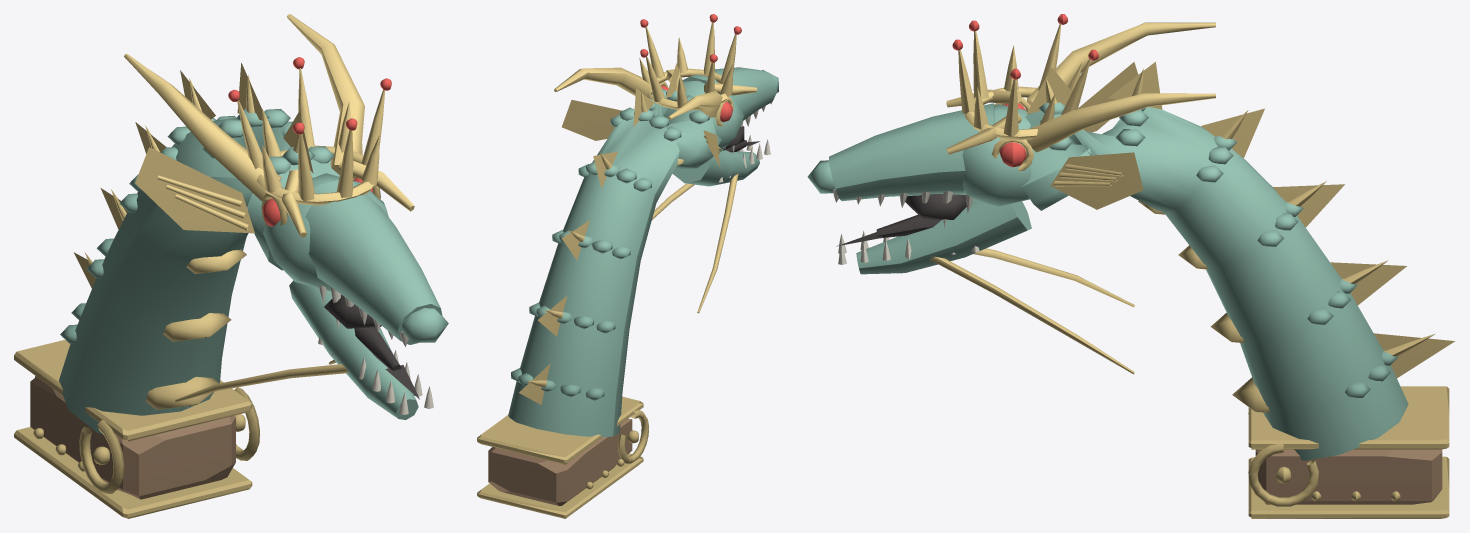
File: storm_dragon.glb
The picture shows the model from 3 angles, left to right: view 1: azimuth 30°, elevation 25°; view 2: azimuth 150°, elevation 25°; view 3: azimuth 270°, elevation 25°; orthographic projection. The views are drawn at different scales.
Parts seen in each view (by area): view 1: G_storm_dragon; view 2: G_storm_dragon; view 3: G_storm_dragon.
Part boxes in pixels (<box>): G_storm_dragon: <box>14,14,448,518</box>; G_storm_dragon: <box>477,14,778,518</box>; G_storm_dragon: <box>807,14,1454,518</box>.
Size of the model in its own units: 1 by 2.14 by 2.78.
